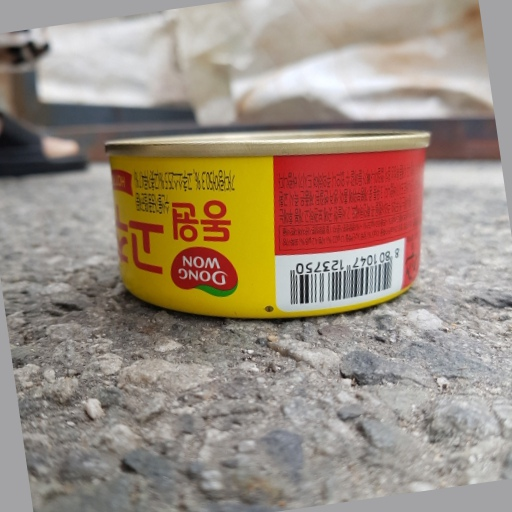Metal_1: (104, 132, 437, 315)
